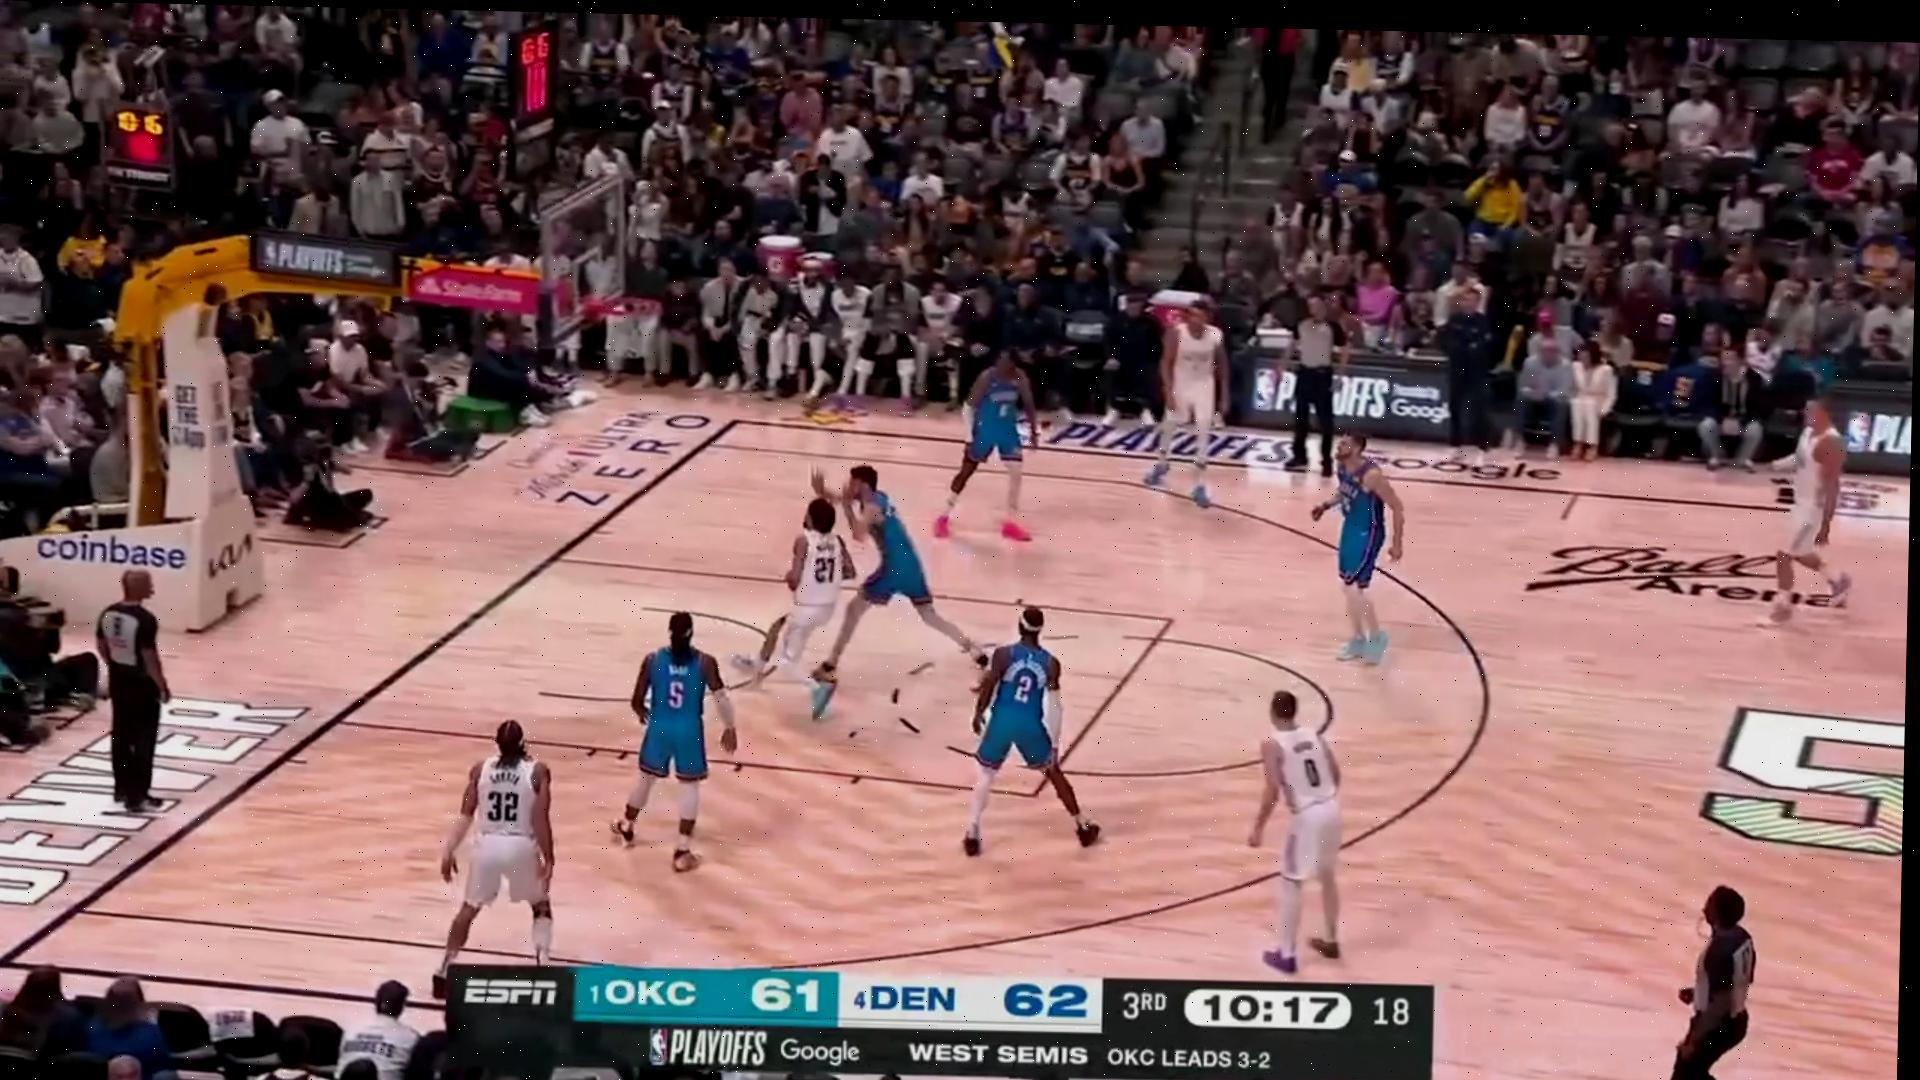no_foul: (731, 426, 993, 727)
